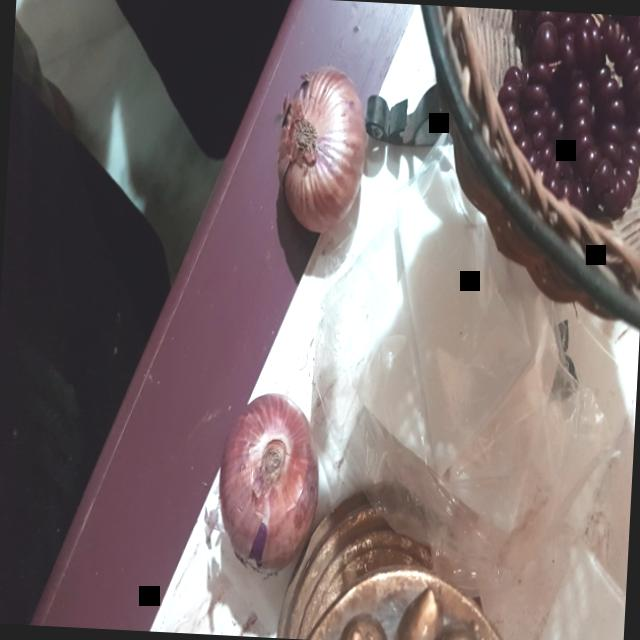onion: (209, 386, 328, 579), (268, 63, 372, 232)
